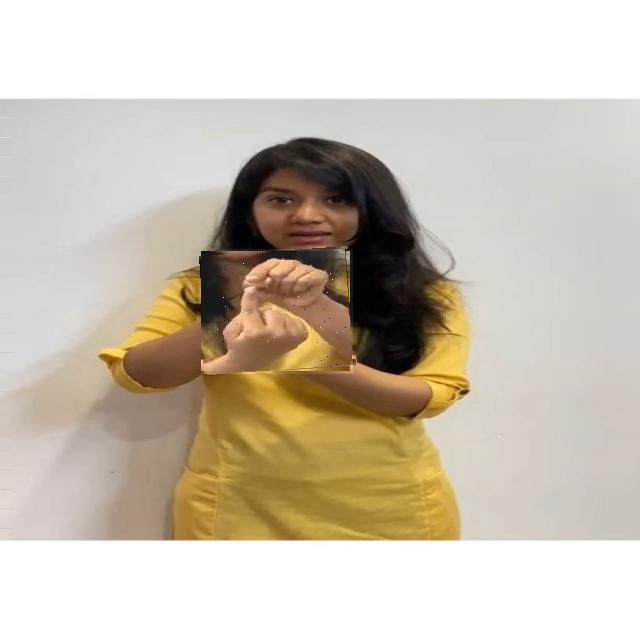I: (202, 249, 356, 374)
